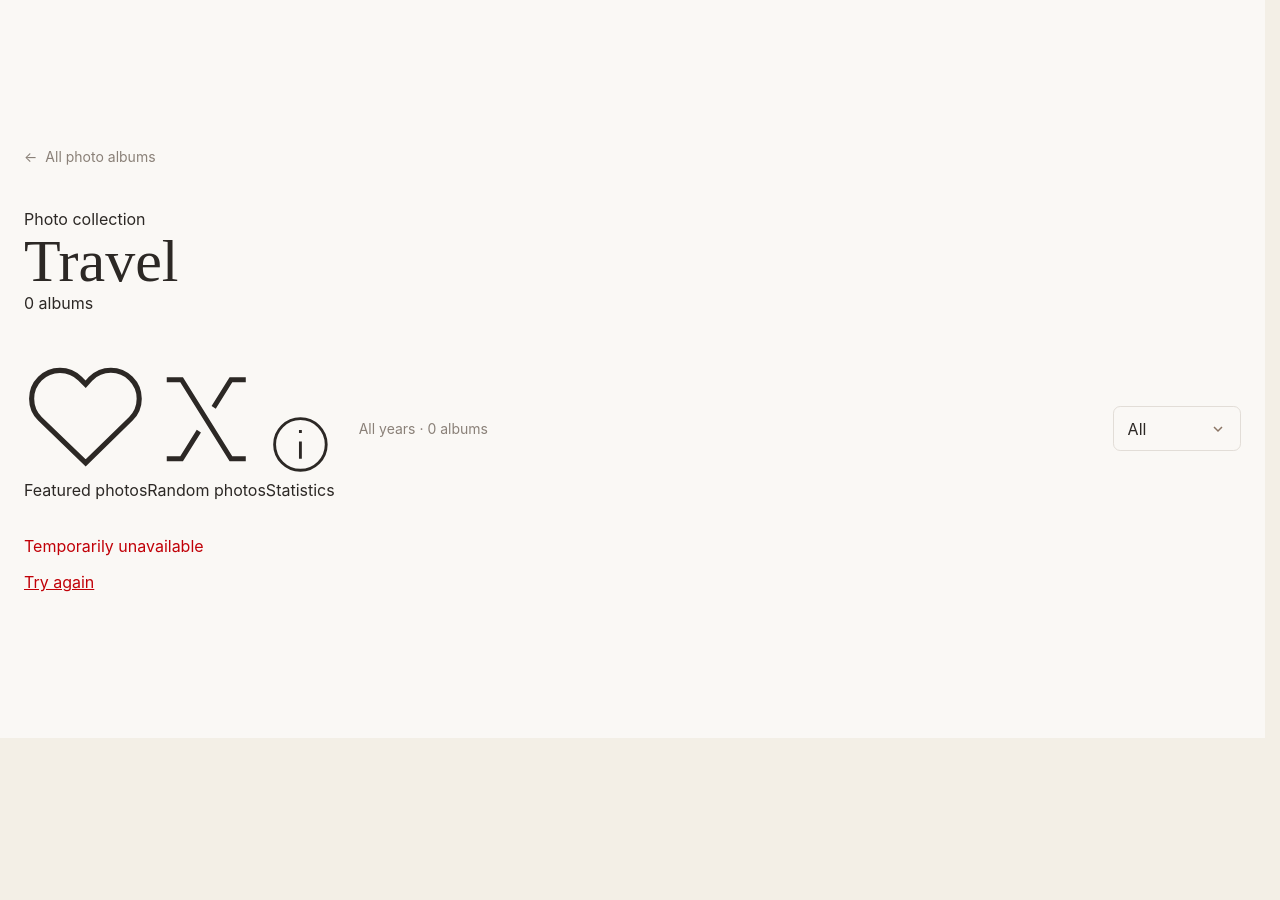
section album pages › handles empty sections and retryable failures
expect the message shows "Temporarily unavailable": met, box [24,536,204,556]
Click the button "Try again" at (59, 582), box [24,570,94,594]
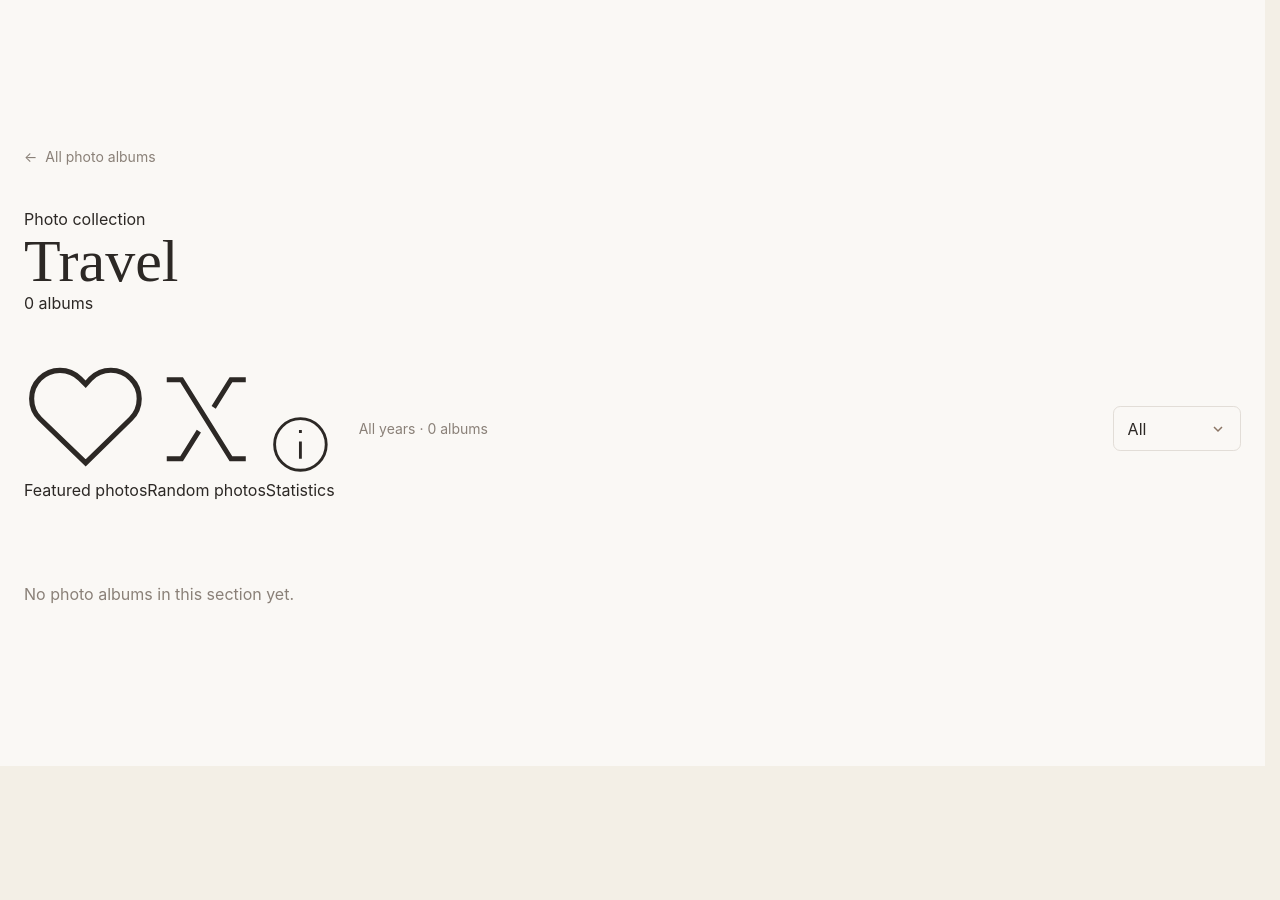
expect the text "No photo albums in this section yet." is shown: met, box [24,584,294,604]
expect the message "Temporarily unavailable Try again" is gone: met
